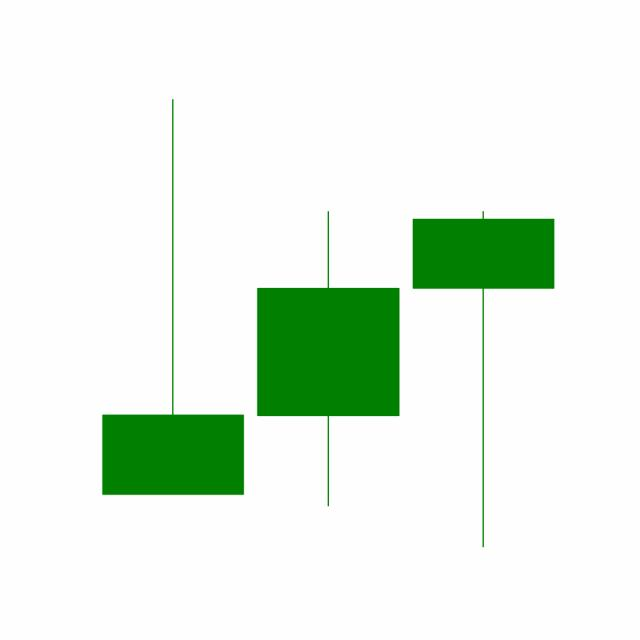Hanging Man: (405, 207, 561, 550)
